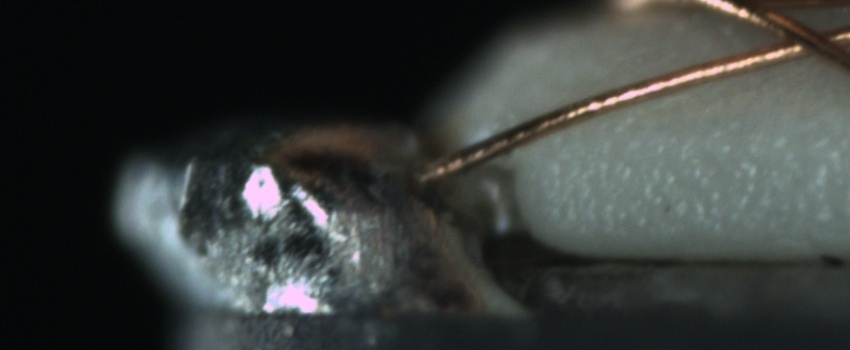CL: (756, 15, 848, 69)
